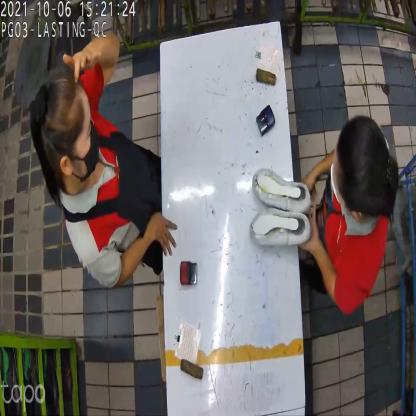stamp: (257, 103, 276, 136), (178, 258, 196, 288)
